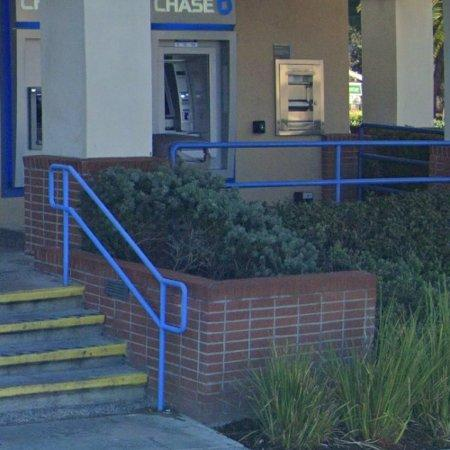stairs: (0, 252, 246, 450)
